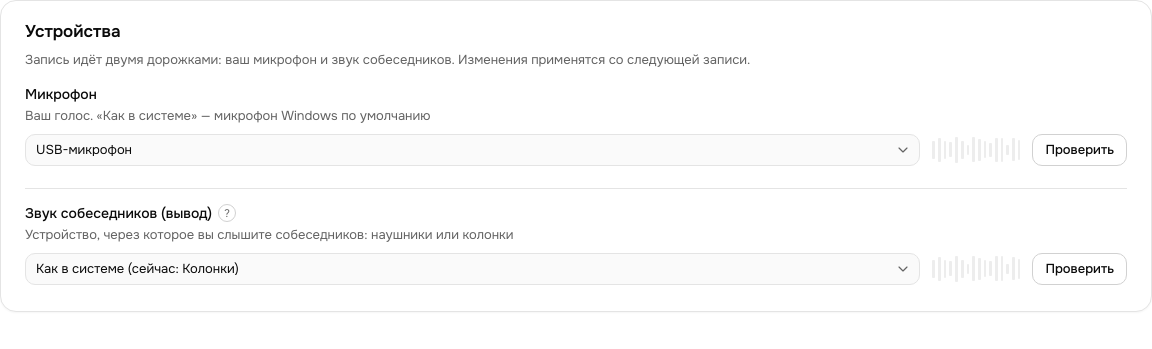
«Проверить» проверяет выбранное в черновике и показывает уровень
This screenshot has width=1152, height=349.
Click the 1st button "Проверить": coordinates (1080, 150) [1032,134,1127,166]
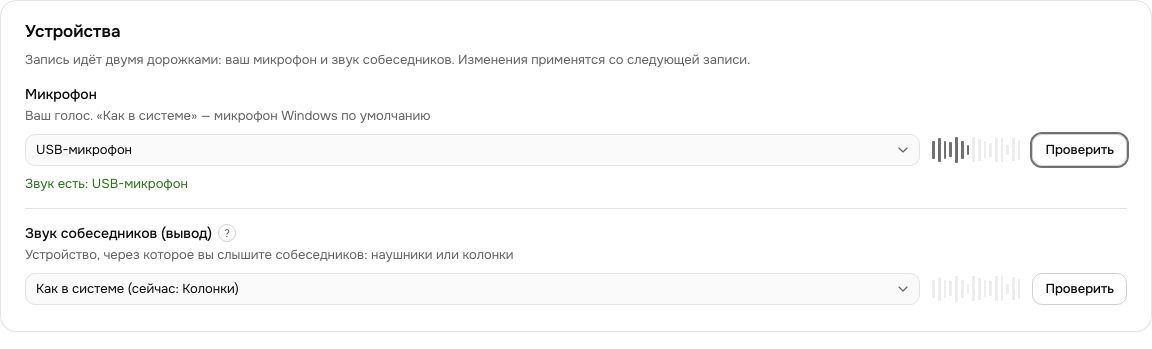
Expected: the number of icons with class "is-lit" is 7
Expected: the text "Звук есть: USB-микрофон" is shown, [25,174,188,194]
